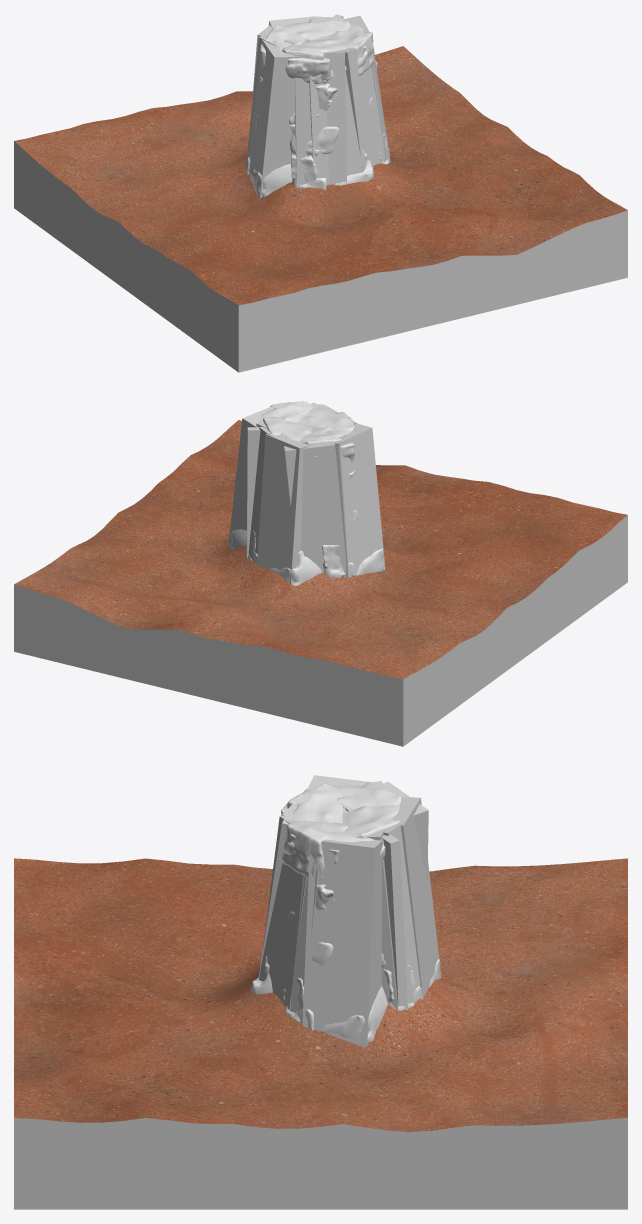
Rendered from Ground_rock_02.fbx.
3 views of the same model, one above another, from view 1: azimuth 30°, elevation 25°; view 2: azimuth 150°, elevation 25°; view 3: azimuth 270°, elevation 25° (orthographic). The views are drawn at different scales.
Visible parts, largest first — view 1: Ground_rock_02_M02_LOD0, Ground_rock_02_M02_MeshCollidor, Rock_02_M02_LOD0, Rock_02_BoxCollidor.008, Rock_02_BoxCollidor.011, Rock_02_BoxCollidor, Rock_02_BoxCollidor.001; view 2: Ground_rock_02_M02_LOD0, Ground_rock_02_M02_MeshCollidor, Rock_02_M02_LOD0, Rock_02_BoxCollidor.006, Rock_02_BoxCollidor.010, Rock_02_BoxCollidor.008, Rock_02_BoxCollidor.002, Rock_02_BoxCollidor.007, Rock_02_BoxCollidor.005, Rock_02_BoxCollidor.009; view 3: Ground_rock_02_M02_LOD0, Ground_rock_02_M02_MeshCollidor, Rock_02_BoxCollidor.002, Rock_02_M02_LOD0, Rock_02_BoxCollidor.001, Rock_02_BoxCollidor.006, Rock_02_BoxCollidor.005, Rock_02_BoxCollidor.007, Rock_02_BoxCollidor.003, Rock_02_BoxCollidor.004, Rock_02_BoxCollidor.010, Rock_02_BoxCollidor.
Boxes of the visible parts, x1=… form: Ground_rock_02_M02_LOD0: x1=14, y1=46, x2=627, y2=305; Ground_rock_02_M02_MeshCollidor: x1=14, y1=141, x2=627, y2=372; Rock_02_M02_LOD0: x1=247, y1=18, x2=389, y2=196; Rock_02_BoxCollidor.008: x1=247, y1=39, x2=300, y2=197; Rock_02_BoxCollidor.011: x1=294, y1=51, x2=347, y2=188; Rock_02_BoxCollidor: x1=308, y1=48, x2=362, y2=188; Rock_02_BoxCollidor.001: x1=345, y1=47, x2=385, y2=171; Ground_rock_02_M02_LOD0: x1=14, y1=420, x2=627, y2=679; Ground_rock_02_M02_MeshCollidor: x1=14, y1=515, x2=627, y2=746; Rock_02_M02_LOD0: x1=229, y1=401, x2=384, y2=586; Rock_02_BoxCollidor.006: x1=257, y1=434, x2=311, y2=584; Rock_02_BoxCollidor.010: x1=284, y1=427, x2=345, y2=577; Rock_02_BoxCollidor.008: x1=336, y1=423, x2=385, y2=577; Rock_02_BoxCollidor.002: x1=228, y1=406, x2=273, y2=549; Rock_02_BoxCollidor.007: x1=248, y1=427, x2=272, y2=561; Rock_02_BoxCollidor.005: x1=247, y1=427, x2=260, y2=557; Rock_02_BoxCollidor.009: x1=312, y1=426, x2=348, y2=578; Ground_rock_02_M02_LOD0: x1=14, y1=858, x2=627, y2=1131; Ground_rock_02_M02_MeshCollidor: x1=14, y1=1118, x2=627, y2=1209; Rock_02_BoxCollidor.002: x1=302, y1=839, x2=383, y2=1046; Rock_02_M02_LOD0: x1=251, y1=782, x2=440, y2=1042; Rock_02_BoxCollidor.001: x1=259, y1=816, x2=306, y2=1010; Rock_02_BoxCollidor.006: x1=393, y1=797, x2=441, y2=997; Rock_02_BoxCollidor.005: x1=382, y1=834, x2=407, y2=1009; Rock_02_BoxCollidor.007: x1=383, y1=821, x2=420, y2=1003; Rock_02_BoxCollidor.003: x1=290, y1=841, x2=321, y2=1024; Rock_02_BoxCollidor.004: x1=342, y1=812, x2=397, y2=1010; Rock_02_BoxCollidor.010: x1=341, y1=781, x2=428, y2=880; Rock_02_BoxCollidor: x1=258, y1=795, x2=297, y2=978.
Size of what is drawn, in the model's own units: 2000 by 988 by 2000.
